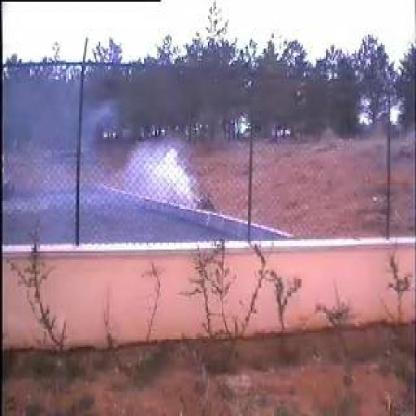-: (81, 122, 200, 244)
